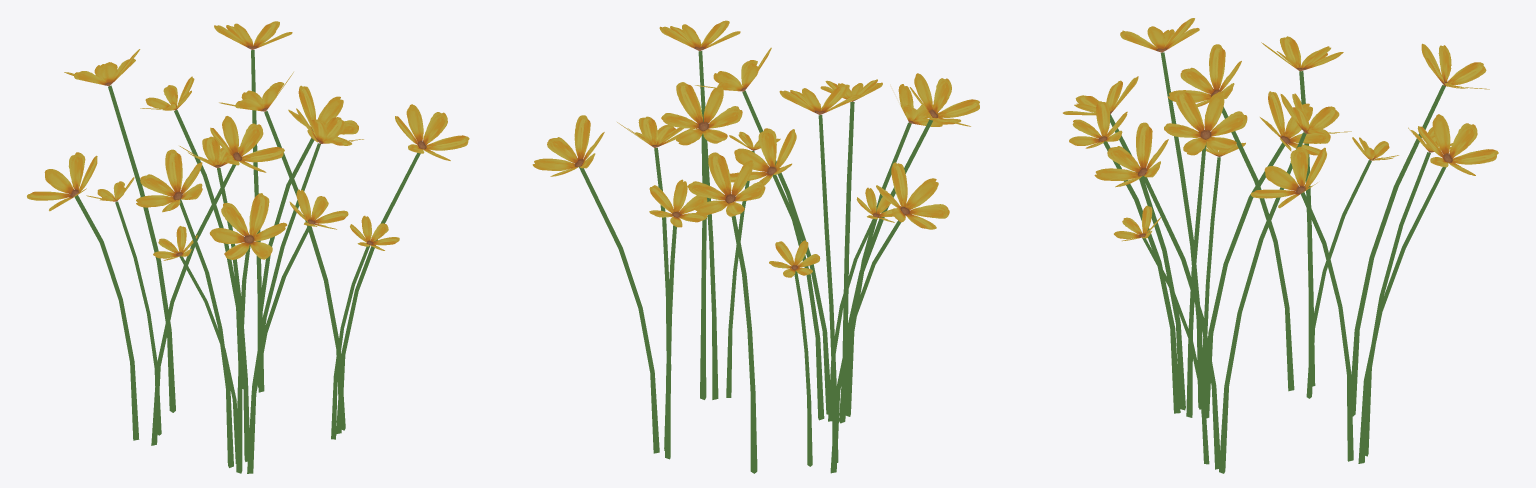
The model's file is SM_Flower_04_03.fbx.
3 views of the same model, side by side, from view 1: azimuth 30°, elevation 25°; view 2: azimuth 150°, elevation 25°; view 3: azimuth 270°, elevation 25° (orthographic). The views are drawn at different scales.
Parts seen in each view (by area): view 1: SM_Flower_04_03_LOD0; view 2: SM_Flower_04_03_LOD0; view 3: SM_Flower_04_03_LOD0.
Boxes of the visible parts, x1,y1,x2,y2 form: SM_Flower_04_03_LOD0: (27,21,469,473); SM_Flower_04_03_LOD0: (532,20,979,473); SM_Flower_04_03_LOD0: (1063,18,1498,473).
Size of what is drawn, in the model's own units: 74.47 by 64.75 by 76.17.
